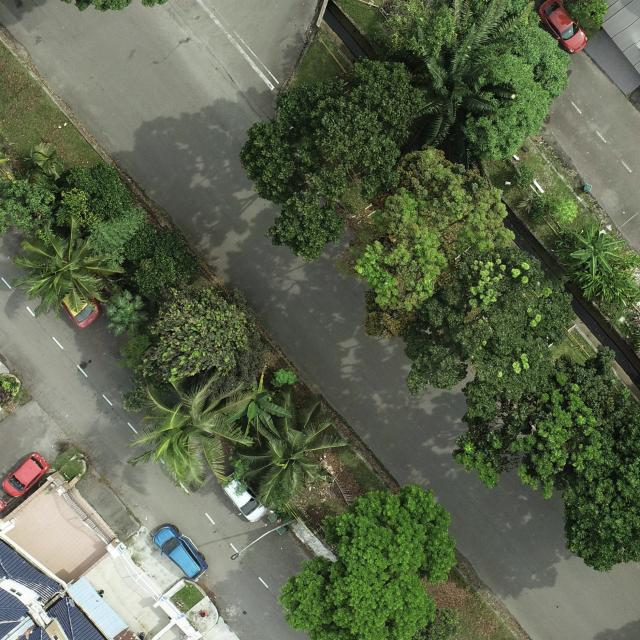Tree: (238, 55, 427, 262), (354, 144, 518, 338), (404, 245, 575, 420), (451, 345, 623, 500), (436, 0, 572, 159), (402, 0, 536, 150), (126, 368, 258, 497), (138, 282, 269, 400), (236, 384, 352, 509), (320, 482, 459, 584), (552, 412, 640, 572), (277, 553, 437, 640), (11, 214, 125, 318), (122, 222, 201, 298), (224, 365, 293, 438), (60, 161, 132, 226), (84, 205, 146, 269), (561, 252, 640, 302), (0, 176, 55, 242), (570, 221, 628, 279), (362, 607, 461, 640), (105, 288, 150, 336), (552, 198, 580, 224), (270, 368, 299, 388)
